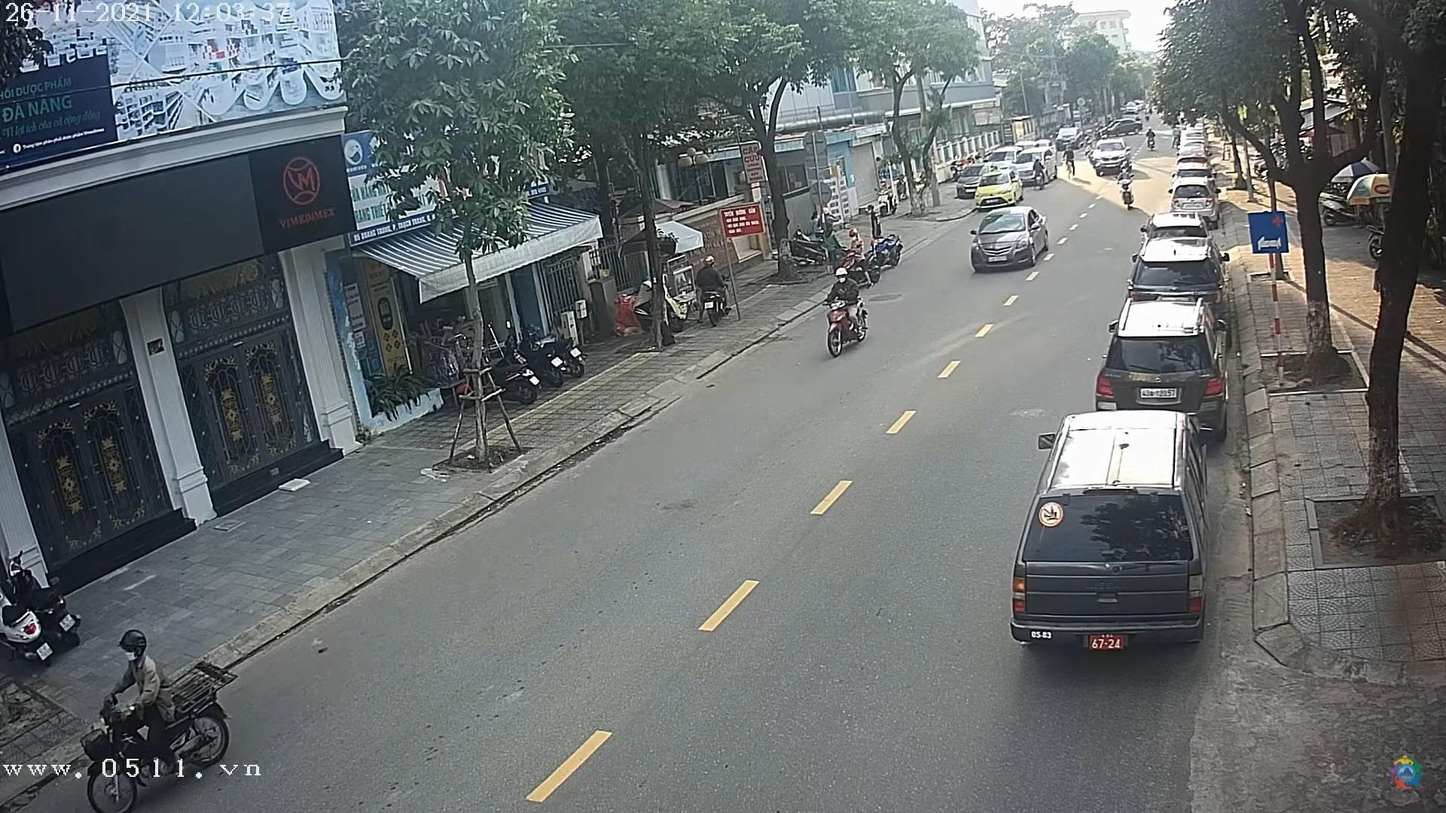car: (1015, 413, 1207, 649), (1096, 299, 1229, 422), (967, 209, 1048, 273), (1133, 233, 1220, 289)
motorbike: (81, 676, 236, 812), (822, 298, 873, 356)
